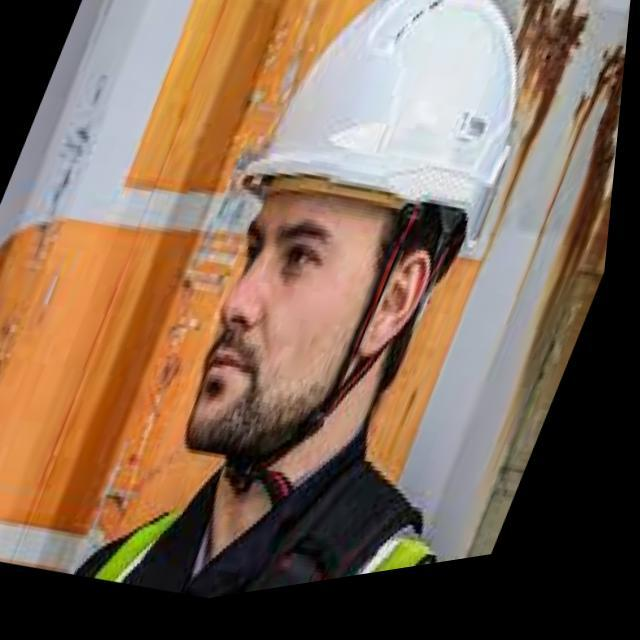Helmet: (149, 0, 521, 445)
